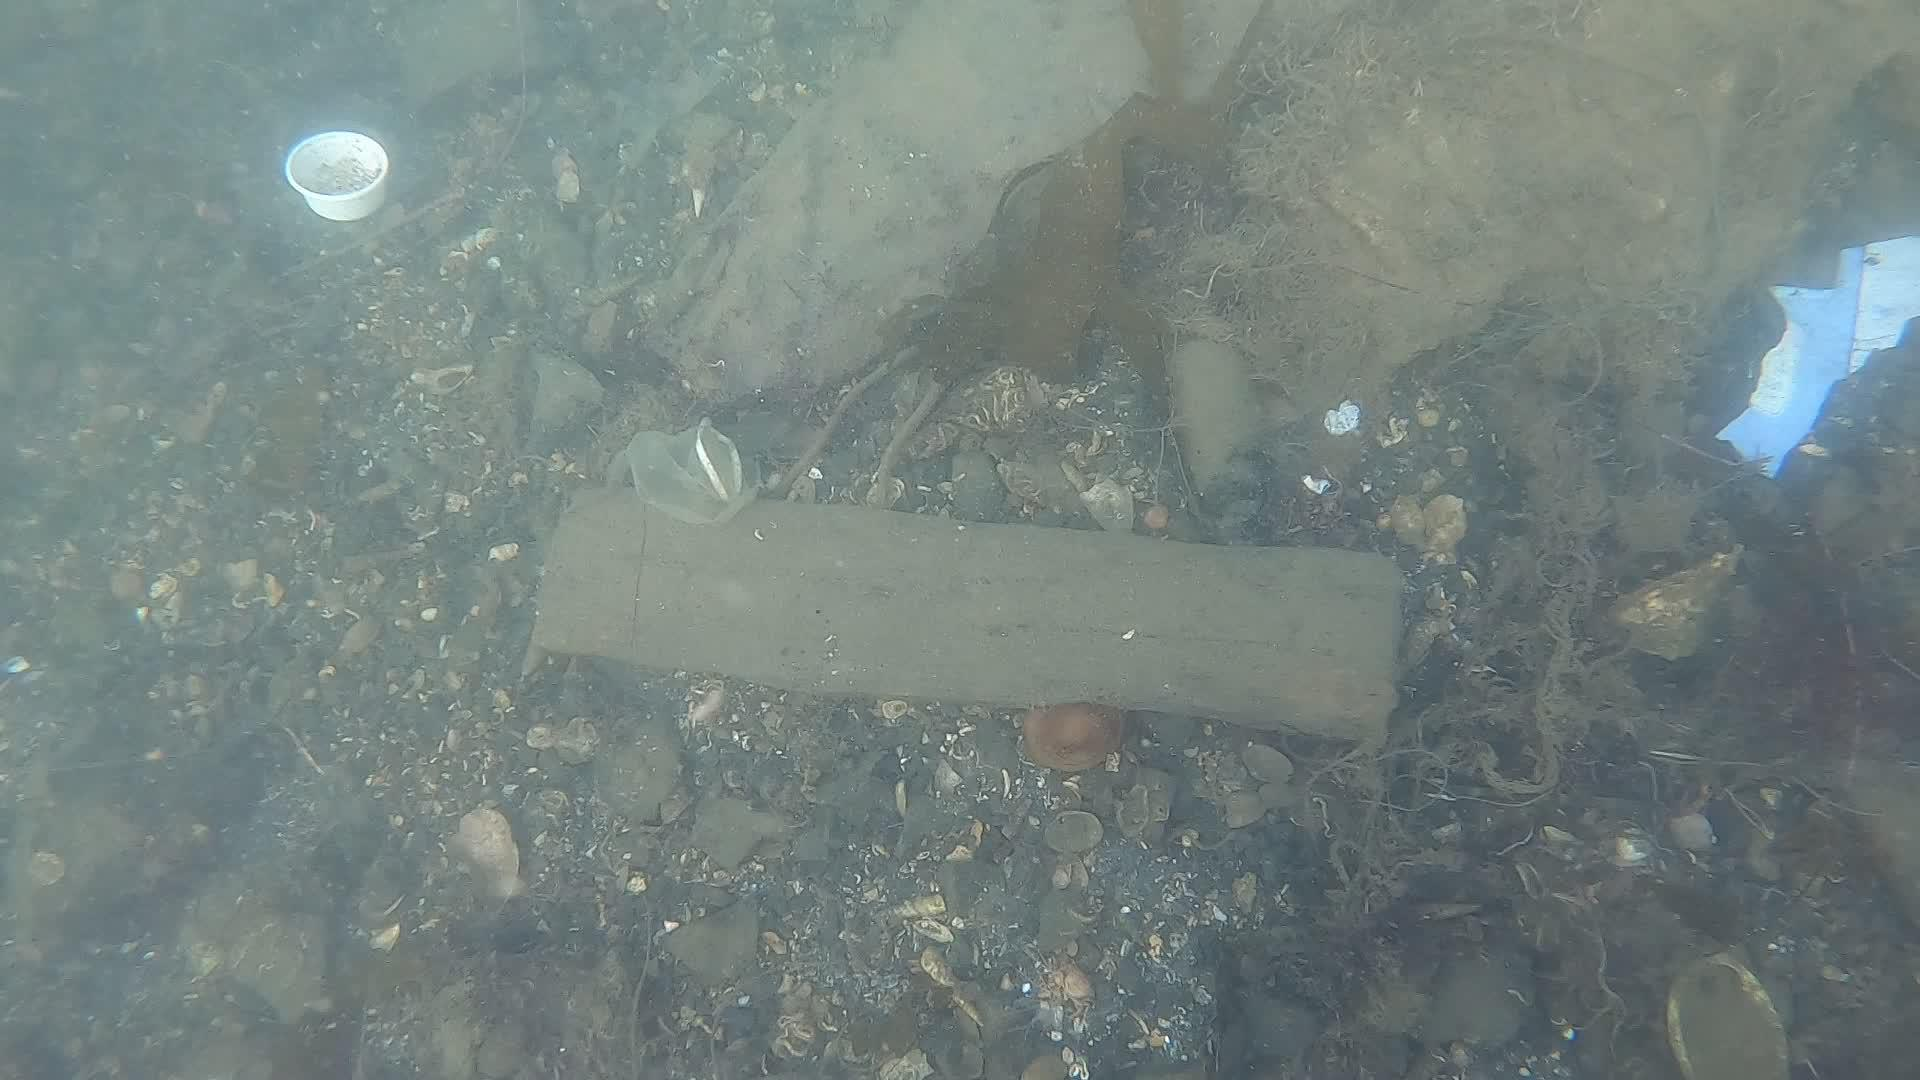wood: (527, 476, 1414, 756)
